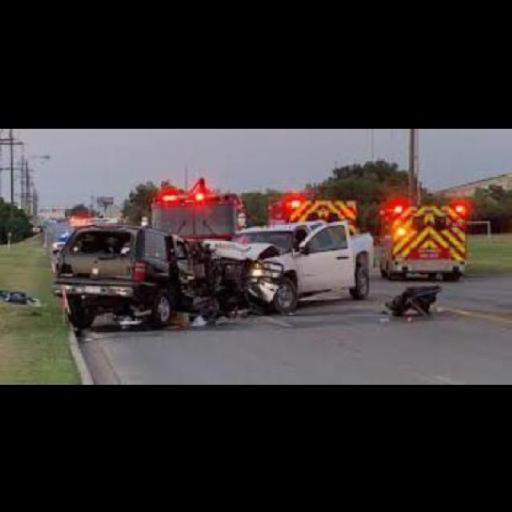小汽车: (385, 197, 479, 279)
小汽车撞小汽车: (60, 222, 376, 327)
